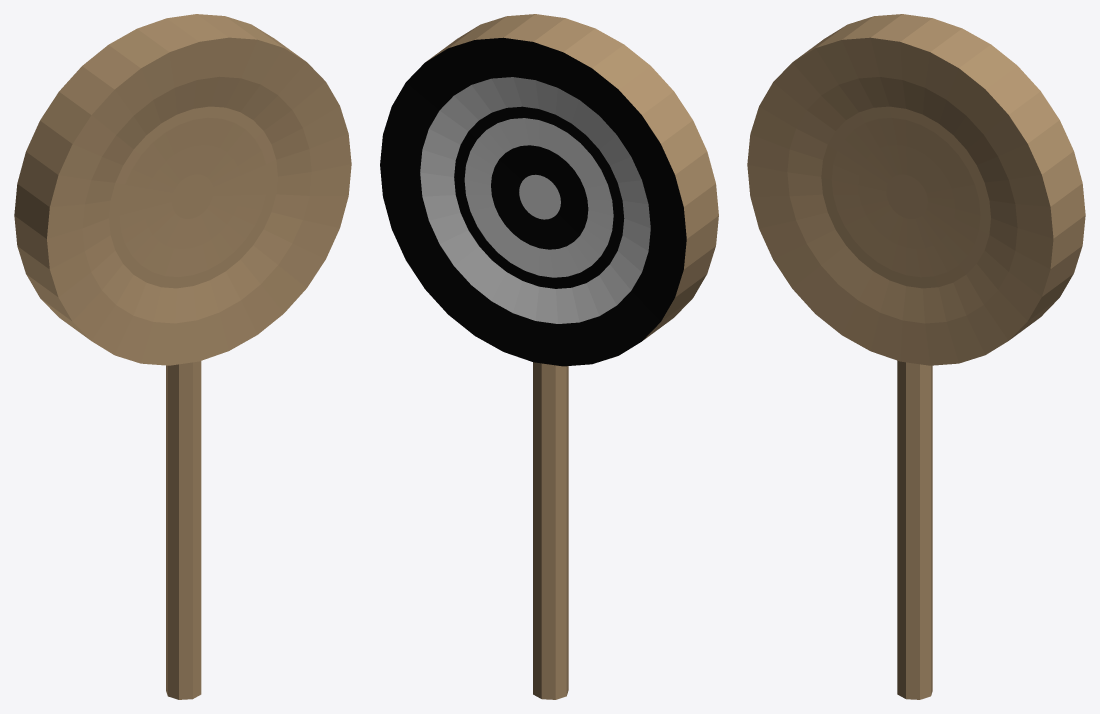
The model's file is target.fbx.
3 renders of one model, left to right at view 1: azimuth 30°, elevation 25°; view 2: azimuth 150°, elevation 25°; view 3: azimuth 330°, elevation 25°, orthographic.
Parts seen in each view (by area): view 1: Cylinder; view 2: Cylinder; view 3: Cylinder.
Part boxes in pixels (x1,y1,x2,y2): Cylinder: (14, 14, 351, 699); Cylinder: (380, 14, 718, 699); Cylinder: (747, 14, 1085, 699).
Bounding box in the file's own units: 411 × 850 × 76.91.
